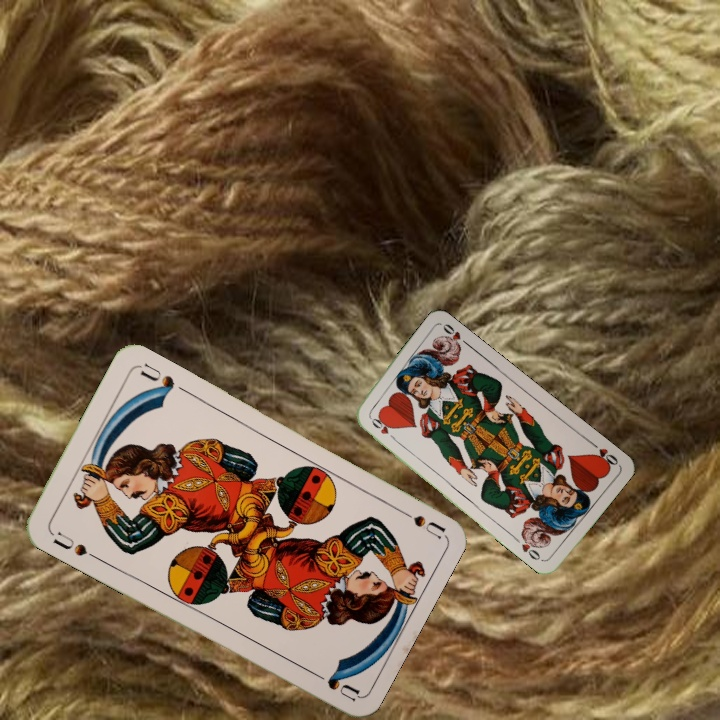HO: (587, 438, 621, 470), (366, 413, 399, 444)
SU: (390, 502, 447, 541), (49, 528, 101, 562)
